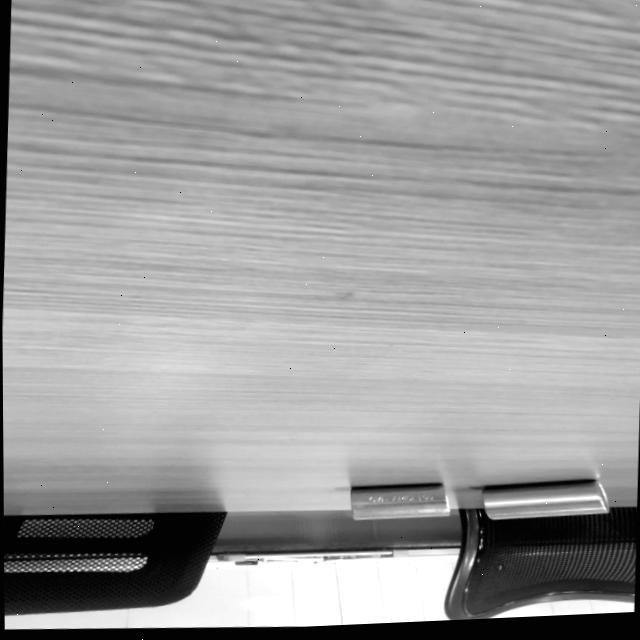Co_Lon: (481, 479, 609, 520)
Co_Nho: (350, 483, 450, 520)
